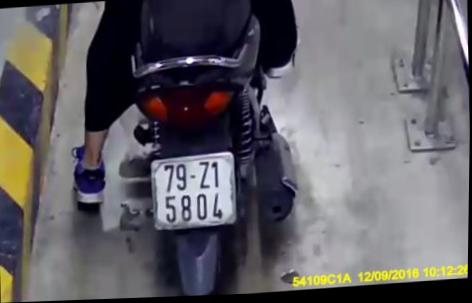LP: (149, 152, 240, 233)
